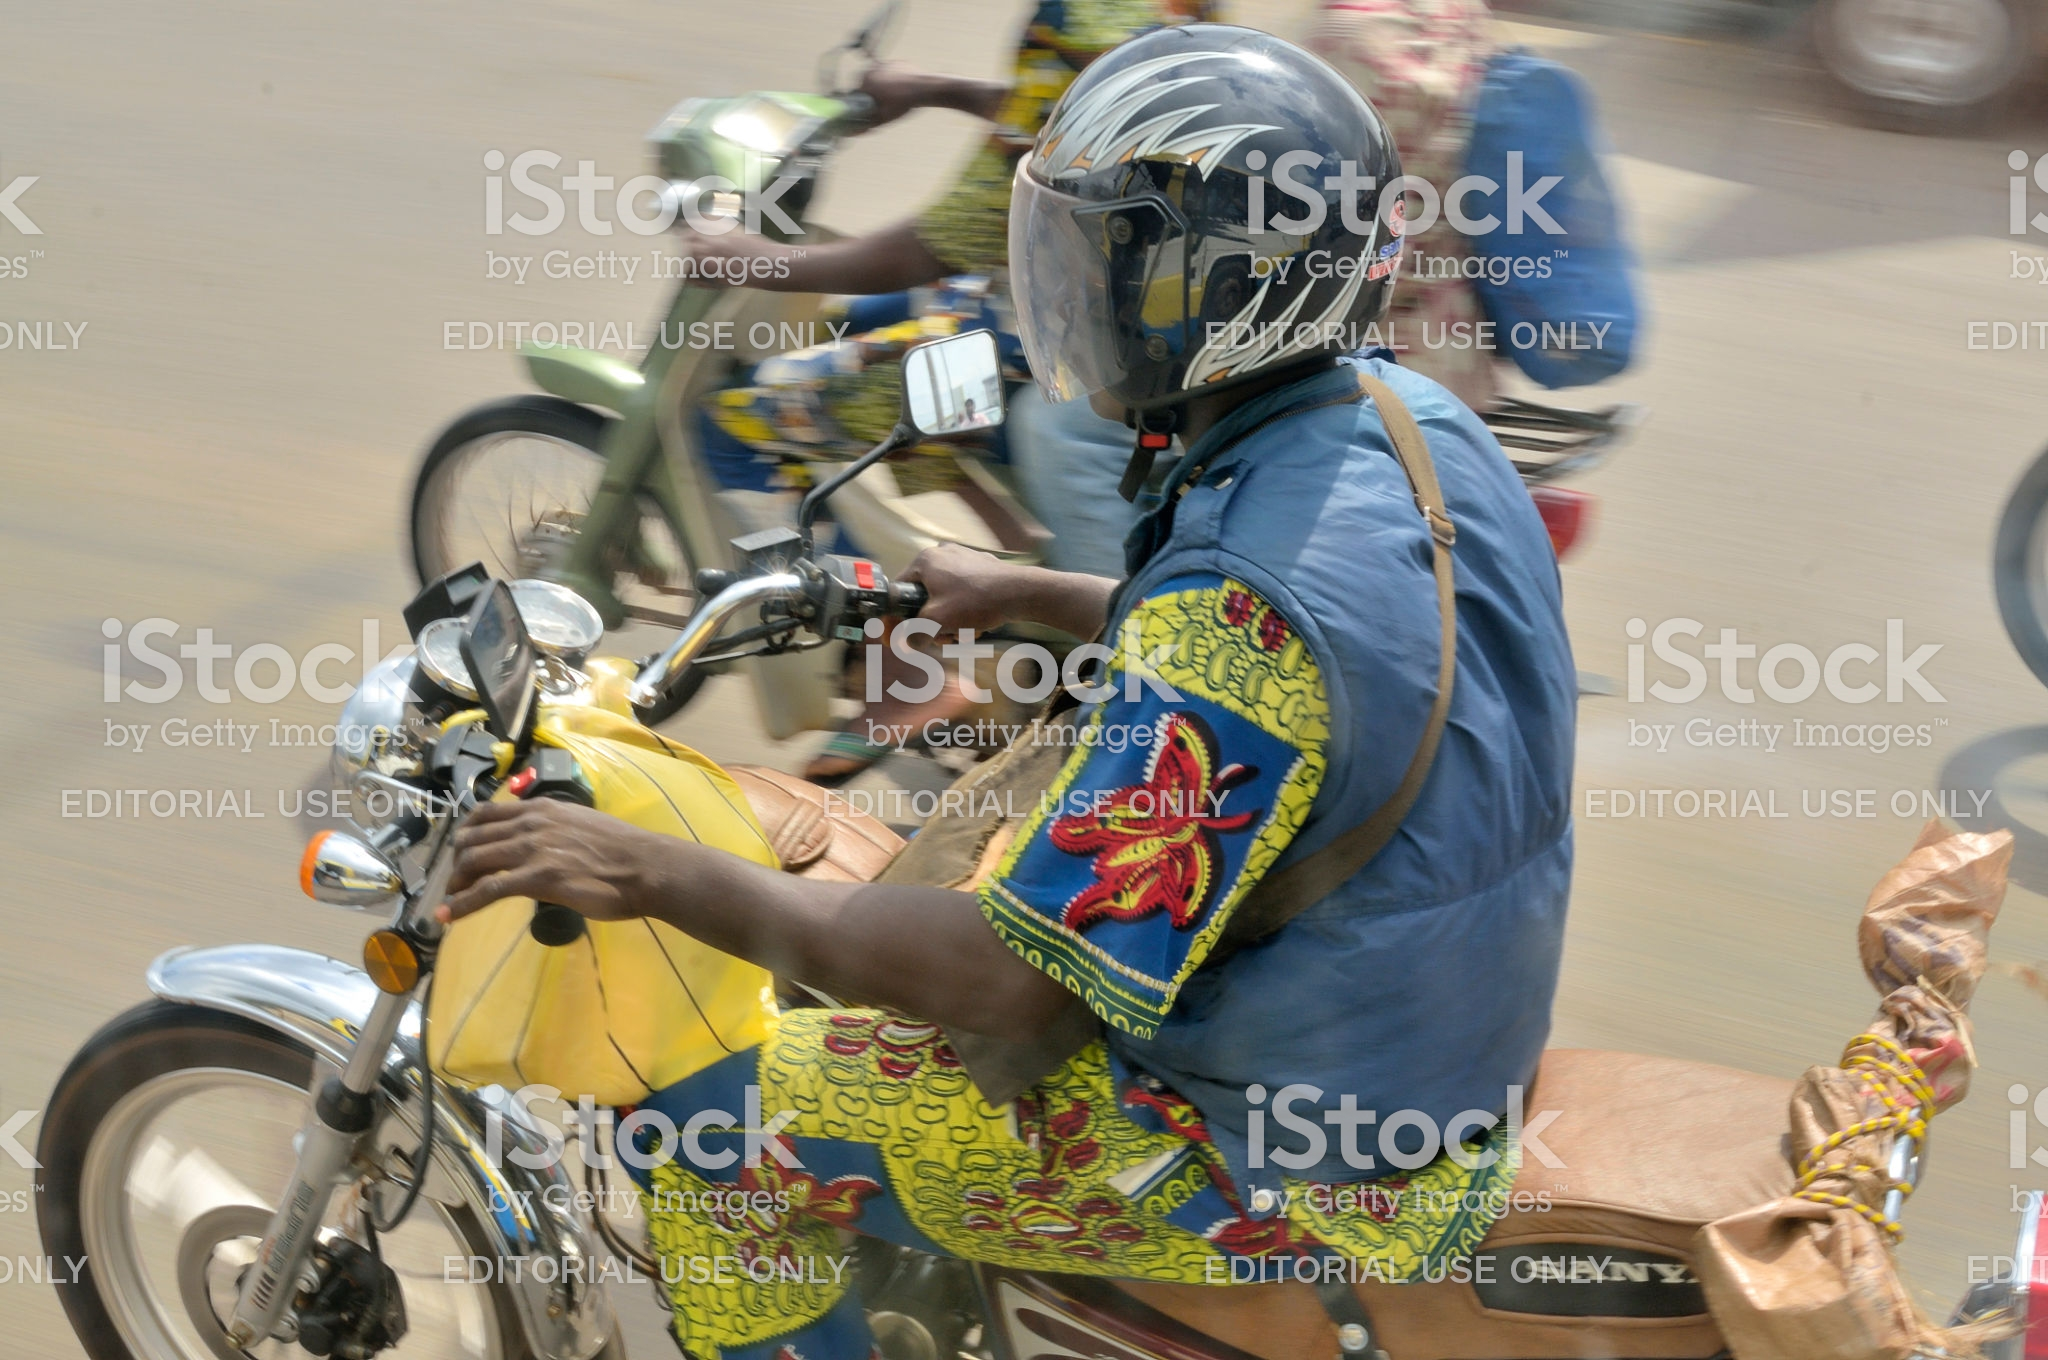helmet: (1021, 20, 1352, 379)
